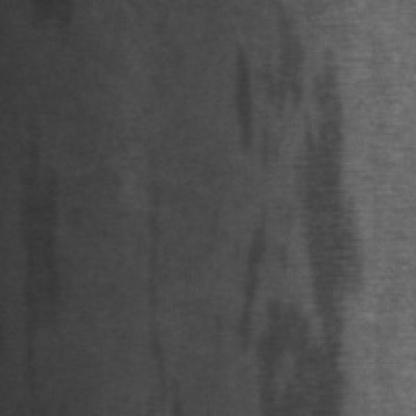inclusion: (237, 19, 370, 412), (15, 137, 77, 393), (144, 202, 192, 410), (225, 31, 262, 154)
